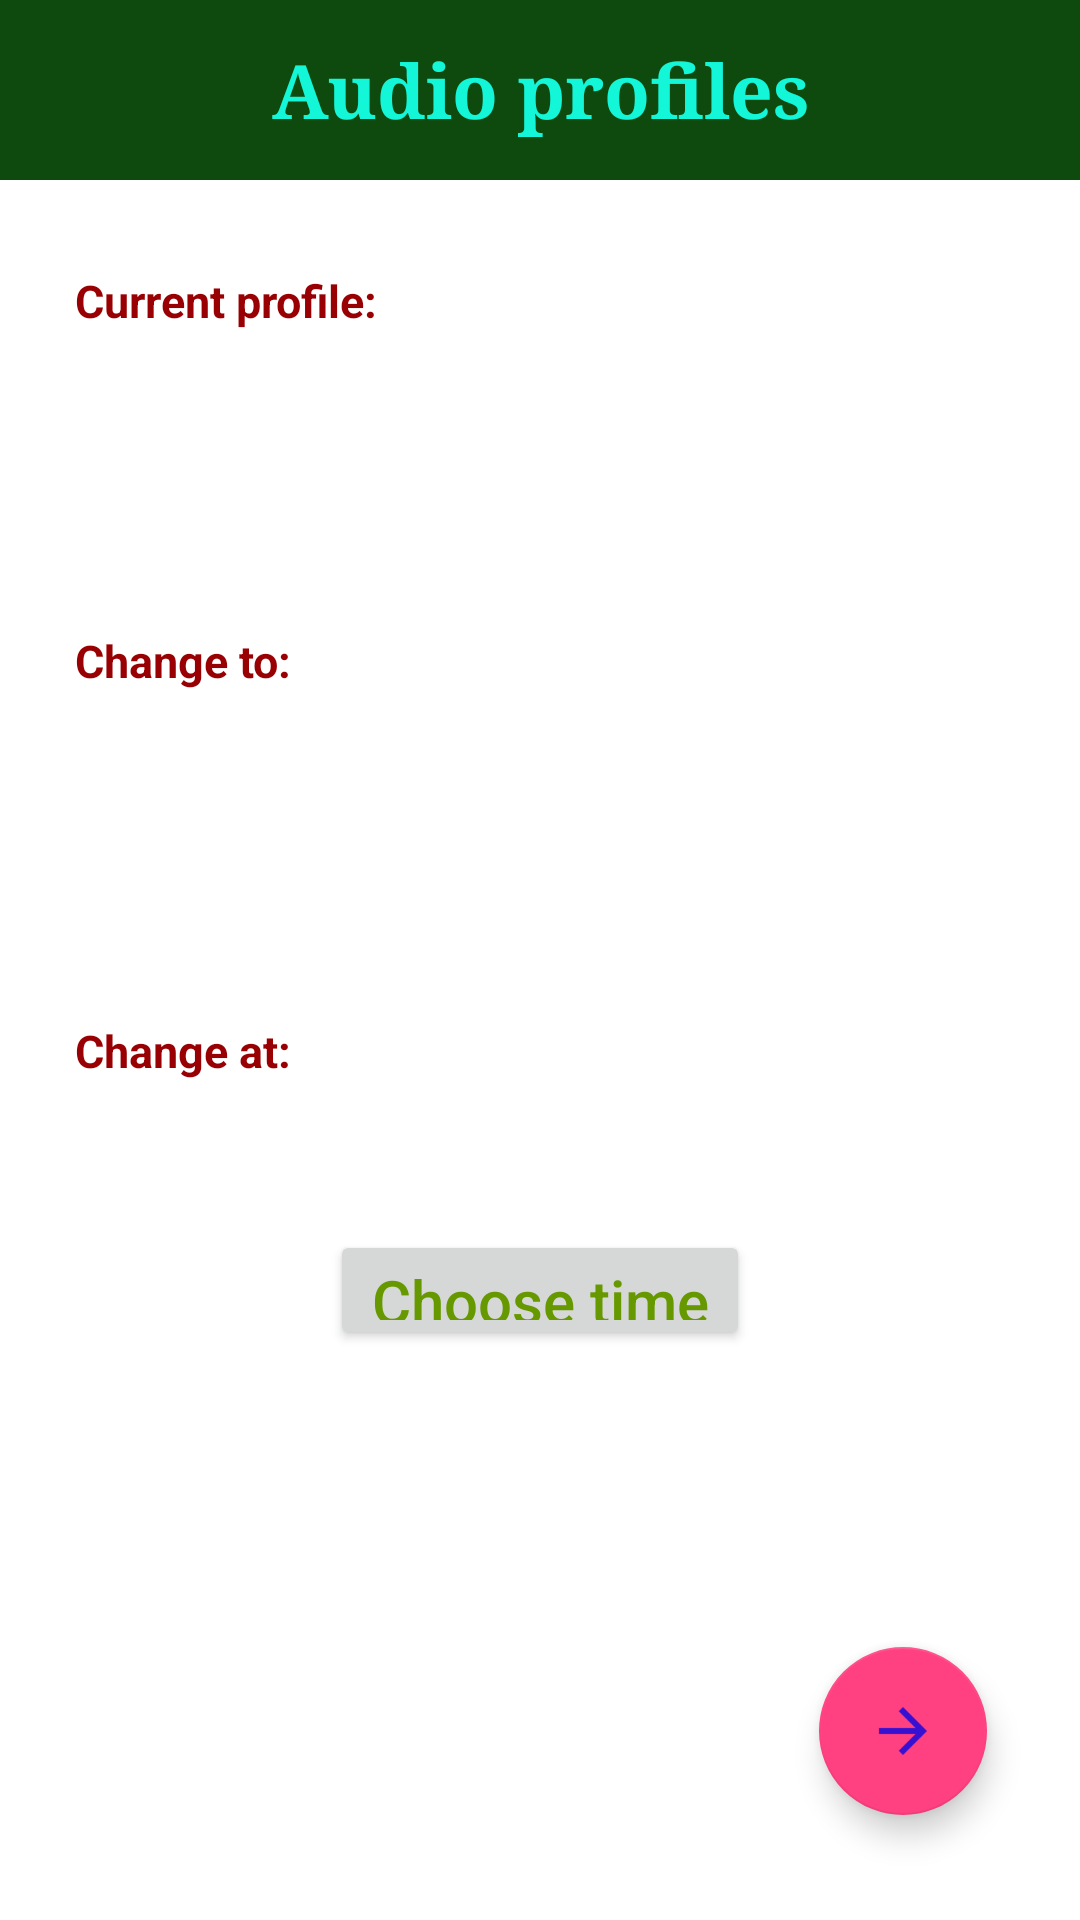

Point at icon controls on the screen. Image size 1080x1920, points as [x,y].
next: [903,1731]
